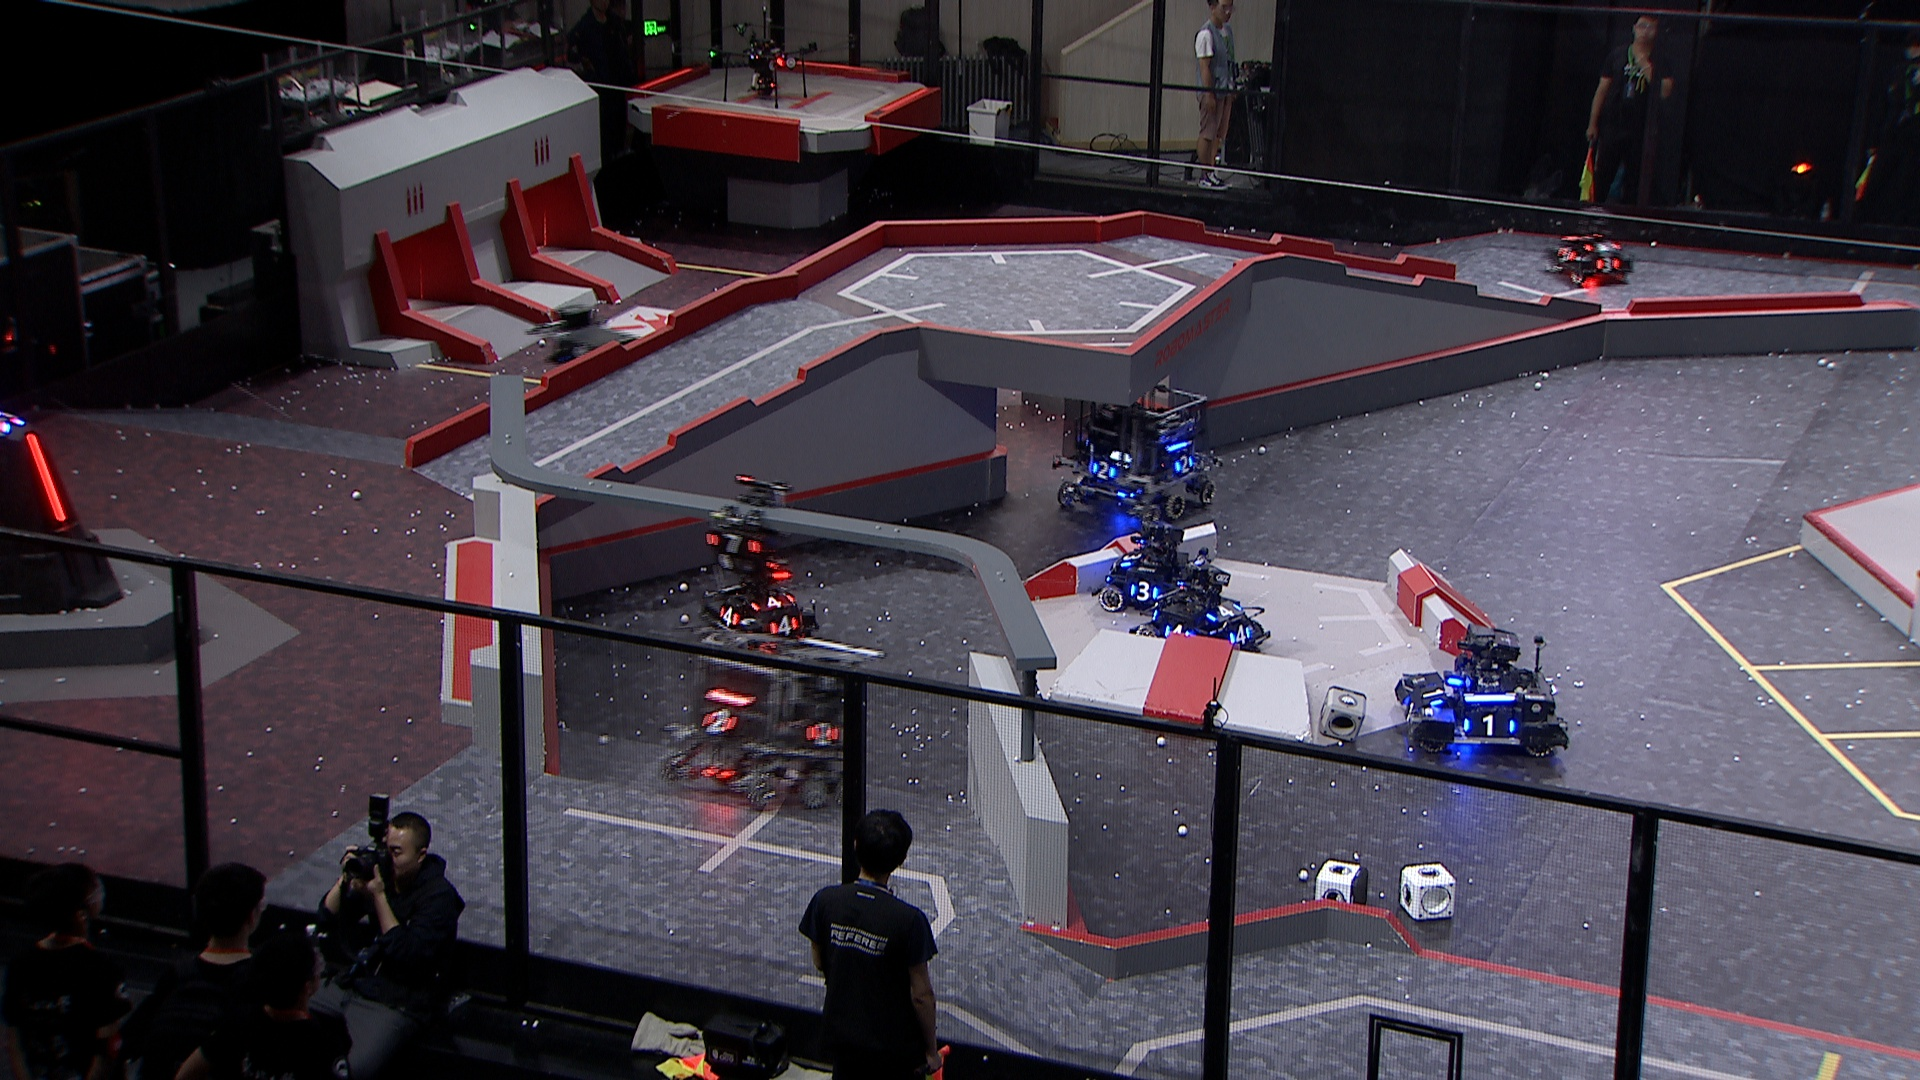armor: (21, 433, 76, 522), (705, 533, 764, 559), (1462, 712, 1516, 738), (746, 591, 793, 616), (699, 705, 736, 736), (806, 719, 839, 749), (1415, 680, 1448, 708), (1125, 579, 1162, 603), (766, 611, 800, 636), (1207, 599, 1244, 621), (1163, 622, 1196, 647), (712, 603, 741, 629), (1117, 545, 1147, 570), (1584, 239, 1623, 256), (1399, 694, 1419, 727), (1228, 622, 1253, 647), (1091, 462, 1120, 483), (1553, 243, 1576, 266), (1594, 256, 1625, 273), (1171, 454, 1195, 473)
car: (659, 618, 864, 808), (1391, 621, 1576, 764), (1058, 386, 1218, 524), (531, 315, 665, 451), (1126, 562, 1267, 659), (694, 546, 823, 650), (1091, 520, 1225, 612), (1542, 210, 1636, 287)
watcher: (700, 471, 793, 574)
